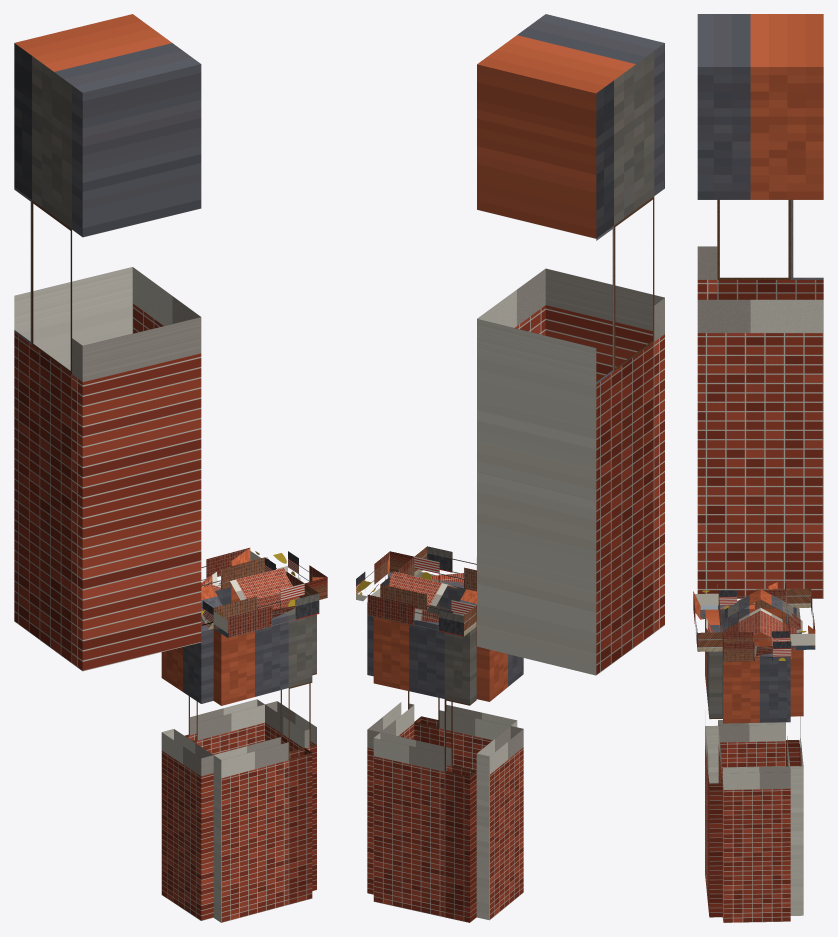
The picture shows the model from 3 angles, left to right: view 1: azimuth 30°, elevation 25°; view 2: azimuth 150°, elevation 25°; view 3: azimuth 270°, elevation 25°; orthographic projection. The views are drawn at different scales.
Parts seen in each view (by area): view 1: 1107168845__chimney_0_xb, 1107168845__wall_2_xb, 1107168845__wall_3_xb, 1107168845__wall_0_xb, 1107168845__cornice_2, 1107168845__wall_1_xb, 1107168845_roof_-1_xb, 1107168845__cornice_0, 1107168845__cornice_1; view 2: 1107168845__chimney_0_xb, 1107168845__wall_0_xb, 1107168845__wall_3_xb, 1107168845__wall_2_xb, 1107168845__cornice_0, 1107168845__wall_1_xb, 1107168845__cornice_2, 1107168845_roof_1_xb, 1107168845__cornice_1; view 3: 1107168845__chimney_0_xb, 1107168845__wall_1_xb, 1107168845__wall_2_xb, 1107168845__wall_3_xb, 1107168845__wall_0_xb, 1107168845__cornice_1, 1107168845__cornice_2, 1107168845__cornice_0, 1107168845_roof_1_xb, 1107168845_roof_-1_xb, 1107168845__cornice_3.
Part boxes in pixels (bbox=[...]): 1107168845__chimney_0_xb: bbox=[14, 14, 201, 671]; 1107168845__wall_2_xb: bbox=[213, 608, 312, 922]; 1107168845__wall_3_xb: bbox=[161, 624, 213, 920]; 1107168845__wall_0_xb: bbox=[184, 582, 264, 754]; 1107168845__cornice_2: bbox=[213, 583, 319, 638]; 1107168845__wall_1_xb: bbox=[265, 614, 316, 890]; 1107168845_roof_-1_xb: bbox=[201, 568, 299, 625]; 1107168845__cornice_0: bbox=[201, 547, 264, 590]; 1107168845__cornice_1: bbox=[265, 551, 327, 599]; 1107168845__chimney_0_xb: bbox=[477, 14, 664, 675]; 1107168845__wall_0_xb: bbox=[373, 617, 476, 922]; 1107168845__wall_3_xb: bbox=[476, 626, 523, 920]; 1107168845__wall_2_xb: bbox=[414, 572, 517, 770]; 1107168845__cornice_0: bbox=[367, 584, 476, 636]; 1107168845__wall_1_xb: bbox=[367, 602, 414, 894]; 1107168845__cornice_2: bbox=[414, 546, 476, 590]; 1107168845_roof_1_xb: bbox=[388, 571, 476, 616]; 1107168845__cornice_1: bbox=[356, 551, 414, 601]; 1107168845__chimney_0_xb: bbox=[697, 14, 823, 598]; 1107168845__wall_1_xb: bbox=[722, 652, 790, 922]; 1107168845__wall_2_xb: bbox=[705, 609, 722, 917]; 1107168845__wall_3_xb: bbox=[718, 603, 785, 780]; 1107168845__wall_0_xb: bbox=[786, 608, 803, 915]; 1107168845__cornice_1: bbox=[722, 631, 791, 661]; 1107168845__cornice_2: bbox=[693, 590, 722, 651]; 1107168845__cornice_0: bbox=[786, 588, 815, 649]; 1107168845_roof_1_xb: bbox=[760, 589, 796, 651]; 1107168845_roof_-1_xb: bbox=[725, 589, 760, 642]; 1107168845__cornice_3: bbox=[717, 581, 785, 609].
Bounding box in the file's own units: 0.3281 × 1.05 × 0.1552.
1 material, 1 textured.
